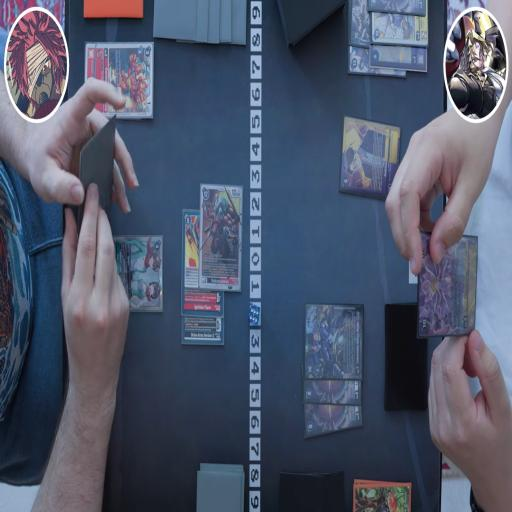card: (418, 233, 477, 337), (340, 117, 400, 199), (200, 184, 242, 291), (304, 305, 363, 379), (182, 210, 223, 316), (114, 236, 163, 311), (104, 43, 153, 118), (370, 11, 430, 46), (304, 404, 362, 437), (348, 46, 406, 77), (370, 45, 427, 72), (303, 380, 361, 405), (182, 316, 223, 345), (349, 0, 370, 48), (368, 0, 426, 16), (85, 43, 95, 81)
